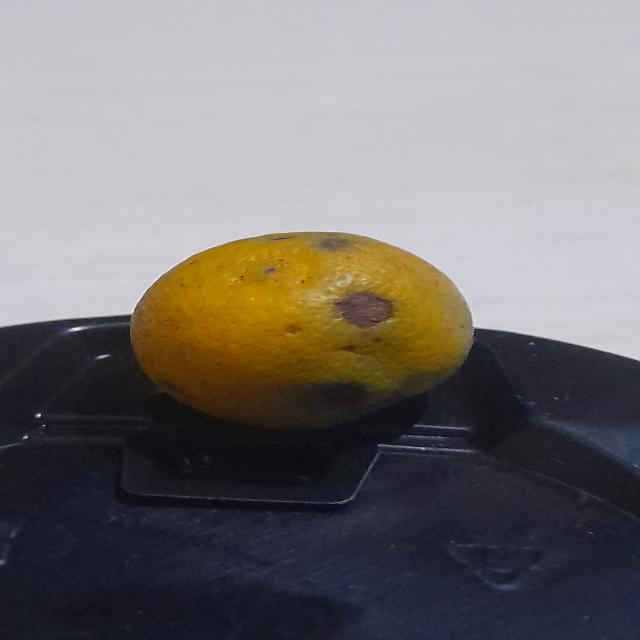black spot: (124, 226, 478, 436)
